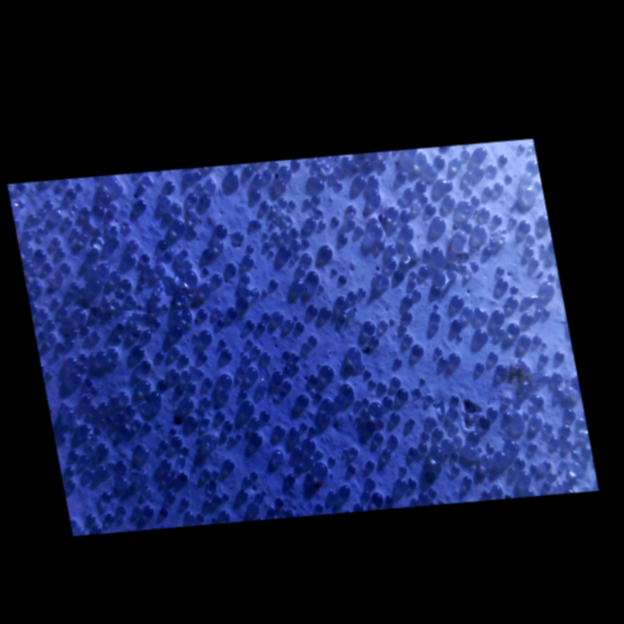GrassBeadSeg: (313, 461, 328, 478), (431, 216, 446, 232), (302, 437, 316, 453), (184, 268, 198, 284), (199, 328, 213, 344), (370, 401, 384, 417), (339, 382, 354, 396), (320, 364, 335, 378), (540, 280, 554, 295), (491, 308, 505, 323), (244, 365, 258, 380), (436, 179, 452, 192), (279, 164, 292, 180), (219, 372, 232, 388), (241, 399, 254, 415), (430, 446, 444, 460), (480, 453, 494, 467), (494, 450, 508, 464), (505, 439, 519, 453), (271, 370, 286, 383), (172, 218, 185, 233), (346, 346, 361, 359), (214, 223, 228, 236), (442, 194, 456, 207), (401, 224, 414, 238), (474, 328, 488, 341), (322, 398, 336, 411), (335, 295, 349, 308), (473, 146, 487, 159), (291, 278, 305, 291), (72, 308, 86, 321), (534, 371, 549, 383), (377, 274, 389, 289), (307, 270, 319, 285), (320, 244, 332, 259), (433, 154, 446, 167), (467, 430, 480, 443), (319, 305, 332, 318), (132, 344, 145, 357), (530, 413, 543, 426), (149, 390, 162, 403), (531, 393, 544, 406), (236, 296, 249, 309), (296, 393, 310, 405), (170, 324, 184, 336), (88, 278, 102, 290), (363, 320, 375, 334), (271, 310, 284, 322), (300, 252, 313, 264), (354, 172, 366, 185), (385, 206, 398, 218), (319, 412, 332, 424), (123, 252, 136, 264), (415, 152, 427, 165), (181, 308, 193, 321), (97, 442, 109, 455), (519, 334, 531, 346), (242, 254, 254, 266), (496, 277, 508, 289), (221, 348, 233, 360), (451, 318, 463, 330), (496, 363, 508, 375), (107, 347, 119, 359), (118, 390, 130, 402), (116, 460, 128, 472), (116, 477, 128, 489), (70, 371, 82, 383), (62, 385, 74, 397), (521, 312, 533, 324), (386, 220, 398, 232), (305, 216, 317, 228), (139, 379, 151, 391), (411, 344, 424, 355), (381, 395, 394, 406), (396, 388, 409, 399), (98, 262, 111, 273), (205, 177, 216, 190), (206, 433, 217, 446), (448, 352, 460, 363), (60, 262, 72, 273), (487, 350, 499, 361), (164, 180, 176, 191), (519, 220, 531, 231), (415, 180, 427, 191), (127, 239, 139, 250), (425, 203, 437, 214), (154, 264, 166, 275), (135, 199, 147, 210), (399, 209, 411, 220), (478, 206, 490, 217), (404, 187, 416, 198), (507, 295, 518, 307), (143, 504, 154, 516), (200, 193, 212, 204), (95, 350, 107, 361), (139, 448, 150, 460), (509, 322, 520, 334), (452, 294, 463, 306), (403, 294, 414, 306), (433, 269, 445, 280), (429, 284, 440, 296), (401, 309, 412, 321), (385, 256, 396, 268), (290, 239, 301, 251), (456, 230, 467, 242), (461, 219, 472, 231), (462, 201, 473, 213), (527, 159, 538, 171), (368, 174, 379, 186), (361, 161, 374, 171), (211, 273, 222, 284), (187, 192, 198, 203), (97, 465, 108, 476), (203, 248, 214, 259), (160, 195, 171, 206), (188, 211, 199, 222), (84, 468, 95, 479), (138, 469, 149, 480), (462, 306, 473, 317), (393, 269, 404, 280), (313, 178, 324, 189), (474, 224, 485, 235), (306, 304, 318, 314), (170, 203, 182, 213), (160, 458, 172, 468), (199, 282, 211, 292), (425, 415, 437, 425), (476, 308, 488, 318), (539, 215, 549, 227), (220, 510, 230, 522), (366, 477, 376, 489), (293, 446, 303, 458), (340, 484, 350, 496), (373, 492, 383, 504), (396, 478, 406, 490), (425, 470, 435, 482), (443, 438, 453, 450), (448, 406, 458, 418), (480, 415, 490, 427), (488, 406, 498, 418), (23, 242, 33, 254), (46, 318, 56, 330), (122, 278, 132, 290), (201, 396, 211, 408), (215, 409, 225, 421), (184, 396, 194, 408), (172, 435, 182, 447), (275, 424, 285, 436), (252, 432, 262, 444), (65, 356, 78, 365), (369, 335, 380, 345), (397, 170, 407, 181), (390, 376, 401, 386), (347, 290, 358, 300), (376, 381, 387, 391), (308, 373, 319, 383), (249, 189, 260, 199), (223, 419, 233, 430), (432, 245, 443, 255), (364, 420, 375, 430), (284, 319, 295, 329), (241, 355, 252, 365), (143, 264, 154, 274), (238, 489, 248, 500), (250, 501, 260, 512), (274, 449, 284, 460), (566, 408, 576, 419), (198, 308, 208, 319), (227, 306, 237, 317), (94, 204, 104, 215), (101, 191, 111, 202), (113, 182, 123, 193), (32, 280, 42, 291), (169, 368, 179, 379), (158, 378, 168, 389), (187, 416, 197, 427), (260, 409, 270, 420), (224, 458, 234, 469), (185, 510, 194, 522), (36, 248, 45, 260), (390, 411, 400, 421), (498, 153, 508, 163), (487, 163, 497, 173), (475, 361, 485, 371), (295, 322, 305, 332), (142, 175, 152, 185), (80, 454, 90, 464), (481, 489, 491, 499), (492, 484, 502, 494), (521, 470, 531, 480), (515, 457, 525, 467), (552, 372, 562, 382), (250, 219, 261, 228), (277, 197, 288, 206), (174, 385, 185, 394), (38, 308, 49, 317), (80, 207, 91, 216), (341, 156, 352, 165), (66, 479, 77, 488), (195, 182, 206, 191), (250, 345, 261, 354), (353, 502, 364, 511), (250, 416, 261, 425), (68, 449, 79, 458), (167, 491, 176, 502), (111, 270, 120, 281), (140, 253, 150, 262), (308, 334, 318, 343), (158, 239, 168, 248), (91, 330, 101, 339), (159, 439, 169, 448), (282, 380, 292, 389), (419, 193, 429, 202), (65, 465, 75, 474), (257, 321, 267, 330), (261, 352, 271, 361), (483, 246, 493, 255), (163, 251, 173, 260), (141, 485, 151, 494), (154, 283, 164, 292), (187, 227, 197, 236), (56, 433, 66, 442), (282, 364, 292, 373), (385, 494, 394, 504), (347, 204, 356, 214), (57, 341, 66, 351), (290, 227, 299, 236), (262, 311, 271, 320), (52, 236, 61, 245), (290, 352, 299, 361), (183, 259, 192, 268), (250, 287, 259, 296), (122, 221, 131, 230), (496, 326, 505, 335), (337, 313, 346, 322), (90, 386, 99, 395), (106, 512, 115, 521), (134, 504, 143, 513), (87, 513, 96, 522), (163, 471, 172, 480), (196, 512, 205, 521), (284, 483, 293, 492), (347, 464, 356, 473), (428, 487, 437, 496), (463, 475, 472, 484), (421, 430, 430, 439), (503, 412, 512, 421), (533, 334, 542, 343), (338, 275, 347, 284), (339, 234, 348, 243), (331, 216, 340, 225), (301, 238, 310, 247), (235, 231, 244, 240), (270, 160, 279, 169), (215, 240, 224, 249), (143, 328, 152, 337), (68, 188, 77, 197), (24, 230, 33, 239), (28, 213, 37, 222), (82, 324, 91, 333), (182, 370, 191, 379), (290, 427, 299, 436), (465, 171, 474, 180), (56, 248, 66, 256), (313, 391, 323, 399), (84, 394, 92, 404), (66, 406, 74, 416), (305, 455, 313, 465), (366, 459, 374, 469), (350, 446, 358, 456), (556, 350, 564, 360), (413, 288, 421, 298), (408, 278, 416, 288), (379, 319, 387, 329), (379, 213, 387, 223), (373, 192, 381, 202), (278, 180, 286, 190), (261, 199, 269, 209), (71, 281, 79, 291), (80, 353, 88, 363), (172, 346, 180, 356), (205, 376, 213, 386), (462, 148, 470, 158), (433, 346, 442, 354), (218, 338, 227, 346), (496, 265, 504, 274), (394, 357, 403, 365), (134, 418, 142, 427), (202, 266, 211, 274), (363, 369, 372, 377), (315, 450, 323, 459), (217, 318, 226, 326), (121, 424, 129, 433), (117, 412, 125, 421), (100, 401, 108, 410), (160, 507, 169, 515), (77, 525, 85, 534), (202, 468, 210, 477), (214, 494, 222, 503), (242, 476, 251, 484), (182, 496, 190, 505), (275, 497, 284, 505), (287, 473, 295, 482), (295, 462, 303, 471), (362, 490, 370, 499), (408, 478, 416, 487), (420, 491, 428, 500), (411, 496, 419, 505), (409, 446, 417, 455), (390, 434, 398, 443), (383, 447, 391, 456), (375, 432, 383, 441), (450, 451, 458, 460), (451, 464, 459, 473), (419, 441, 427, 450), (435, 427, 443, 436), (486, 444, 494, 453), (509, 466, 517, 475), (583, 445, 591, 454), (454, 434, 462, 443), (450, 423, 458, 432), (451, 394, 459, 403), (544, 421, 552, 430), (529, 442, 537, 451), (552, 436, 560, 445), (562, 424, 570, 433), (563, 438, 571, 447), (540, 353, 548, 362), (420, 266, 428, 275), (405, 334, 413, 343), (432, 311, 440, 320), (388, 244, 396, 253), (358, 287, 366, 296), (356, 225, 364, 234), (347, 218, 355, 227), (313, 194, 321, 203), (264, 169, 272, 178), (282, 230, 290, 239), (300, 227, 308, 236), (229, 170, 237, 179), (281, 247, 289, 256), (270, 279, 278, 288), (242, 273, 250, 282), (245, 166, 253, 175), (255, 174, 263, 183), (292, 159, 300, 168), (272, 231, 280, 240), (297, 266, 305, 275), (173, 300, 181, 309), (153, 303, 161, 312), (153, 318, 161, 327), (173, 311, 181, 320), (228, 263, 236, 272), (246, 319, 254, 328), (112, 298, 120, 307), (128, 297, 136, 306), (132, 325, 140, 334), (81, 233, 89, 242), (64, 216, 72, 225), (39, 208, 47, 217), (45, 262, 53, 271), (59, 305, 67, 314), (48, 333, 56, 342), (199, 351, 207, 360), (181, 354, 189, 363), (156, 351, 164, 360), (144, 360, 152, 369), (189, 381, 197, 390), (127, 404, 135, 413), (143, 421, 151, 430), (239, 388, 247, 397), (309, 426, 317, 435), (368, 378, 376, 387), (440, 356, 448, 365), (453, 157, 461, 166), (476, 166, 484, 175), (495, 182, 503, 191), (485, 186, 493, 195), (472, 195, 480, 204), (246, 337, 254, 345), (83, 424, 91, 432), (94, 524, 102, 532), (180, 249, 188, 257), (376, 419, 384, 427), (91, 405, 99, 413), (118, 505, 126, 513), (103, 491, 111, 499), (533, 181, 542, 188), (46, 199, 53, 208), (19, 182, 26, 191), (330, 267, 338, 274), (98, 416, 105, 424), (88, 417, 95, 425), (183, 445, 190, 453), (256, 492, 263, 500), (251, 471, 258, 479), (213, 469, 220, 477), (205, 498, 212, 506), (269, 507, 276, 515), (313, 494, 320, 502), (329, 490, 336, 498), (328, 456, 335, 464), (543, 308, 550, 316), (220, 432, 227, 440), (300, 422, 307, 430), (306, 473, 313, 481), (495, 214, 502, 222), (455, 333, 462, 340), (317, 284, 324, 291), (400, 323, 407, 330), (88, 445, 95, 452), (336, 181, 343, 188), (335, 164, 342, 171), (319, 220, 326, 227), (68, 338, 75, 345), (80, 364, 87, 371), (39, 228, 46, 235), (27, 262, 34, 269), (317, 503, 323, 511), (532, 257, 538, 265), (549, 272, 555, 280), (528, 234, 534, 242), (400, 465, 407, 471), (512, 285, 518, 292), (527, 246, 533, 253), (472, 262, 478, 269), (463, 250, 469, 257), (451, 271, 457, 278), (450, 262, 457, 268), (410, 270, 416, 277), (453, 222, 459, 229), (379, 160, 386, 166), (378, 239, 384, 246), (371, 217, 378, 223), (376, 224, 382, 231), (331, 172, 337, 179), (324, 163, 330, 170), (315, 161, 321, 168), (353, 163, 359, 170), (305, 198, 311, 205), (247, 244, 253, 251), (163, 303, 169, 310), (113, 237, 119, 244), (103, 299, 109, 306), (115, 334, 121, 341), (73, 227, 79, 234), (112, 225, 118, 232), (111, 203, 118, 209), (107, 210, 113, 217), (77, 182, 83, 189), (53, 297, 59, 304), (84, 437, 90, 444), (198, 369, 204, 376), (17, 200, 24, 206), (31, 303, 37, 310), (46, 371, 52, 378), (526, 186, 532, 193), (510, 216, 516, 223), (466, 186, 472, 193), (262, 232, 268, 238), (293, 314, 299, 320), (230, 436, 236, 442), (236, 433, 242, 439), (181, 471, 187, 477), (409, 418, 415, 424), (427, 394, 433, 400), (505, 396, 511, 402), (515, 411, 521, 417), (544, 460, 550, 466), (521, 388, 527, 394), (535, 307, 541, 313), (466, 269, 472, 275), (290, 200, 296, 206), (264, 242, 270, 248), (90, 266, 96, 272), (118, 323, 124, 329), (72, 205, 78, 211), (71, 328, 77, 334), (86, 378, 92, 384), (93, 434, 99, 440), (519, 144, 525, 150), (506, 175, 512, 181), (197, 436, 202, 443), (171, 427, 176, 434), (224, 493, 229, 499), (175, 468, 180, 474), (420, 377, 425, 383), (522, 411, 528, 416), (531, 463, 536, 469), (556, 387, 561, 393), (519, 358, 524, 364), (522, 381, 528, 386), (317, 208, 322, 214), (270, 207, 275, 213), (263, 289, 268, 295), (179, 294, 184, 300), (235, 377, 240, 383), (239, 366, 244, 372), (186, 323, 191, 329), (262, 489, 267, 494), (344, 448, 349, 453), (423, 248, 428, 253), (433, 303, 438, 308), (389, 318, 394, 323), (269, 250, 274, 255), (274, 203, 279, 208), (244, 286, 249, 291), (138, 284, 143, 289), (152, 292, 157, 297), (156, 295, 161, 300), (262, 384, 267, 389), (363, 409, 368, 414), (357, 400, 362, 405), (364, 397, 369, 402), (215, 307, 220, 312), (214, 516, 218, 522), (282, 508, 286, 513), (291, 258, 295, 263), (295, 253, 299, 258), (194, 333, 198, 338), (254, 264, 258, 268), (289, 217, 292, 221), (280, 225, 283, 229), (128, 272, 131, 276), (221, 310, 224, 314), (188, 294, 191, 297), (397, 378, 398, 380)
